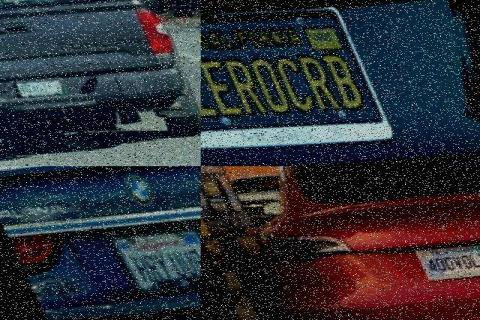LicensePlate: (200, 0, 397, 166), (107, 219, 201, 295), (409, 239, 478, 278), (5, 73, 62, 95)
